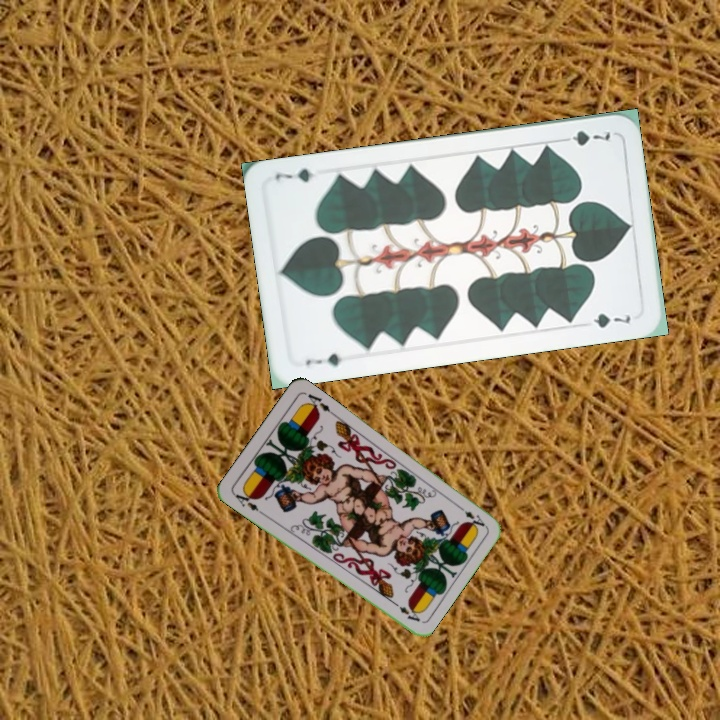EA: (230, 486, 266, 517), (453, 501, 487, 529)
G7: (555, 126, 613, 148), (301, 349, 345, 369)
